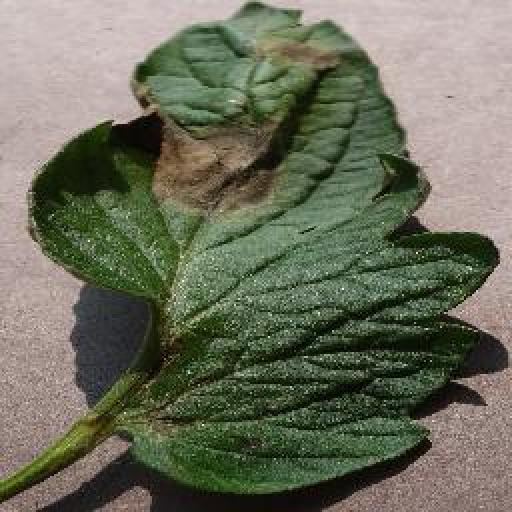Late Blight: (24, 0, 498, 500)
